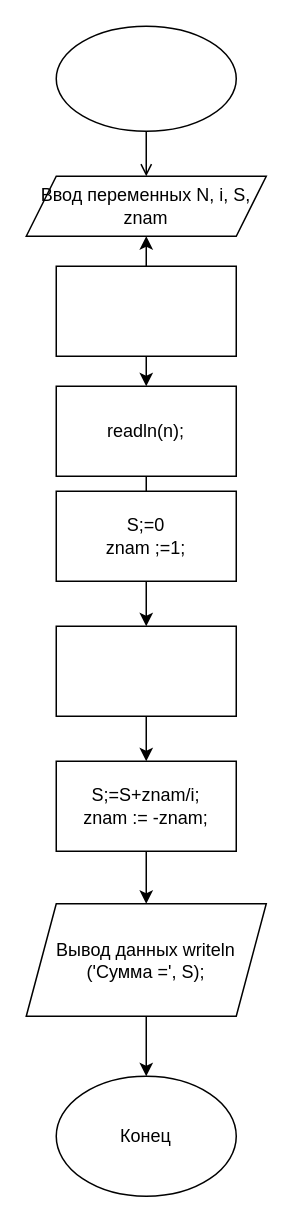
Image size: 293x1223. Some labels were removed from this diagram. The shapes that lost their labels are listed below. From the top down, each one's centre as x and y in pixels, then its label:
[145,78]: Начало
[145,310]: write('Введите N:');
[145,670]: for i ;= 1 to N do
